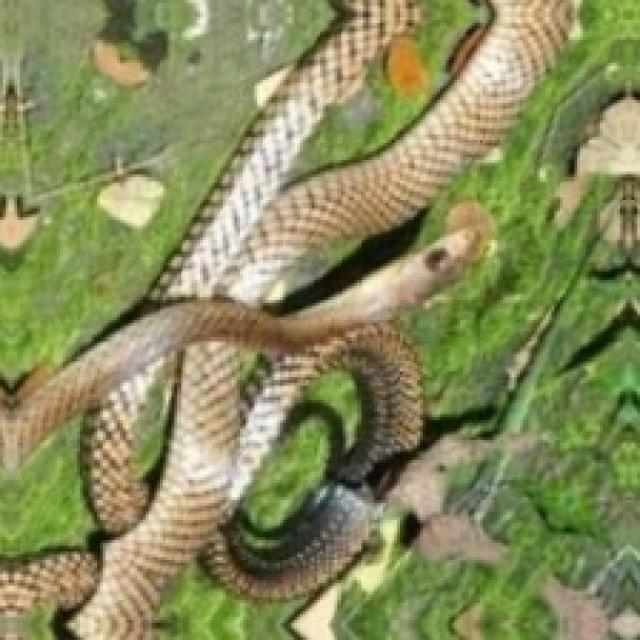smooth-scaled mountain rat snake: (0, 0, 571, 637), (223, 366, 363, 574)
